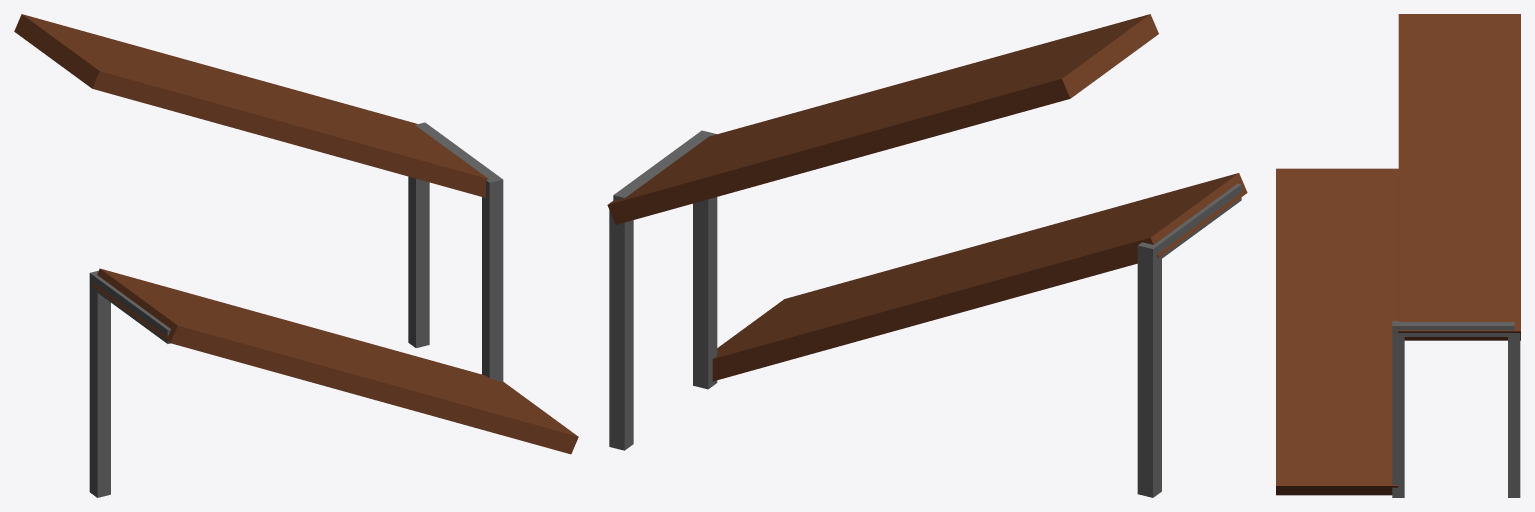
The picture shows the model from 3 angles, left to right: view 1: azimuth 30°, elevation 25°; view 2: azimuth 150°, elevation 25°; view 3: azimuth 270°, elevation 25°; orthographic projection. The views are drawn at different scales.
Parts seen in each view (by area): view 1: Cube.035, Cube.033, Cube.050, Cube.058, Cube.018, Cube.049, Cube.054; view 2: Cube.035, Cube.033, Cube.050, Cube.018, Cube.058, Cube.049, Cube.054; view 3: Cube.033, Cube.035, Cube.058, Cube.018, Cube.054.
Part boxes in pixels (x1,y1,x2,y2): Cube.035: (14, 14, 488, 197); Cube.033: (92, 268, 578, 454); Cube.050: (89, 280, 110, 497); Cube.058: (482, 187, 503, 381); Cube.018: (408, 176, 429, 347); Cube.049: (89, 270, 170, 343); Cube.054: (415, 122, 503, 196); Cube.035: (607, 14, 1158, 224); Cube.033: (712, 173, 1247, 381); Cube.050: (1137, 254, 1161, 497); Cube.018: (609, 210, 633, 450); Cube.058: (693, 197, 717, 389); Cube.049: (1137, 183, 1241, 264); Cube.054: (613, 130, 716, 201); Cube.033: (1276, 168, 1398, 495); Cube.035: (1398, 14, 1520, 340); Cube.058: (1392, 331, 1404, 497); Cube.018: (1508, 333, 1520, 497); Cube.054: (1392, 321, 1514, 336).
Bounding box in the file's own units: 302 × 298 × 200.
